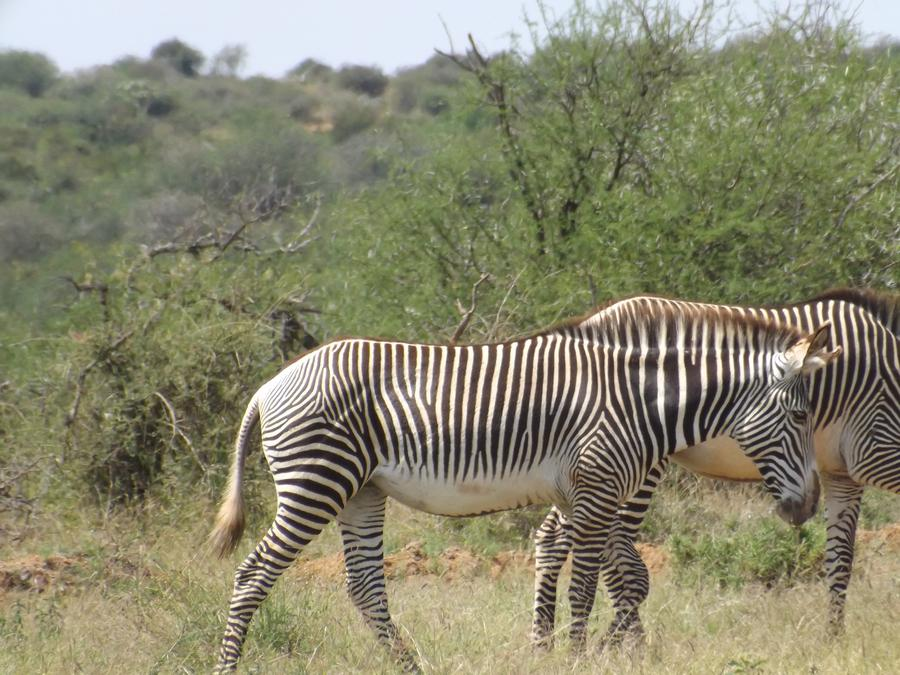zebra_grevys: (230, 313, 627, 514)
